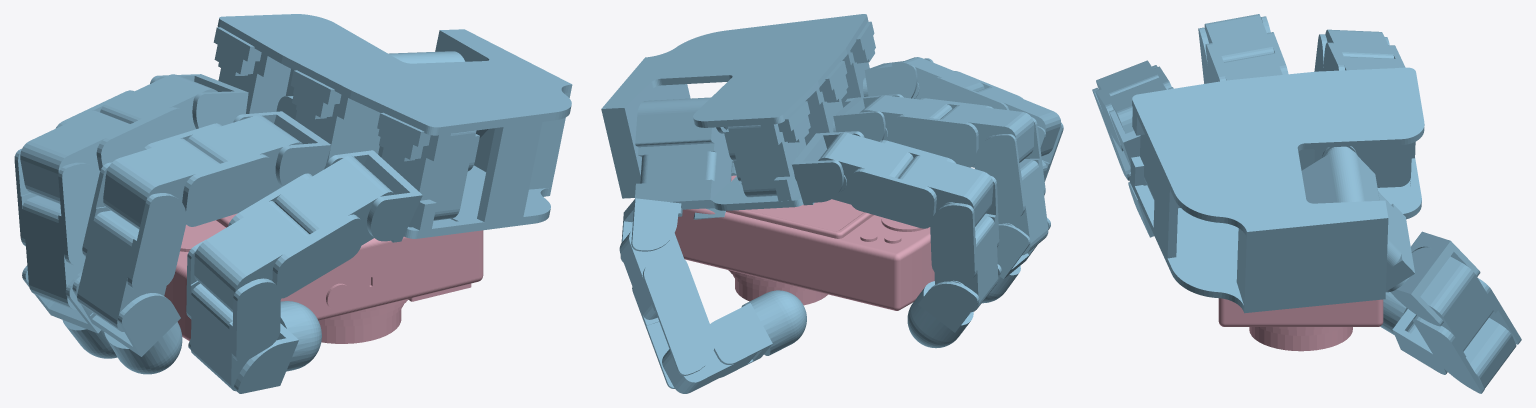
3 renders of one model, left to right at view 1: azimuth 30°, elevation 25°; view 2: azimuth 150°, elevation 25°; view 3: azimuth 270°, elevation 25°, orthographic. The views are drawn at different scales.
Parts seen in each view (by area): view 1: world; view 2: world; view 3: world.
Boxes of the visible parts, left/top/right/bottom form: world: left=14, top=14, right=572, bottom=393; world: left=601, top=14, right=1063, bottom=393; world: left=1092, top=14, right=1521, bottom=393.
Bounding box in the file's own units: 0.1922 × 0.1252 × 0.1687.
